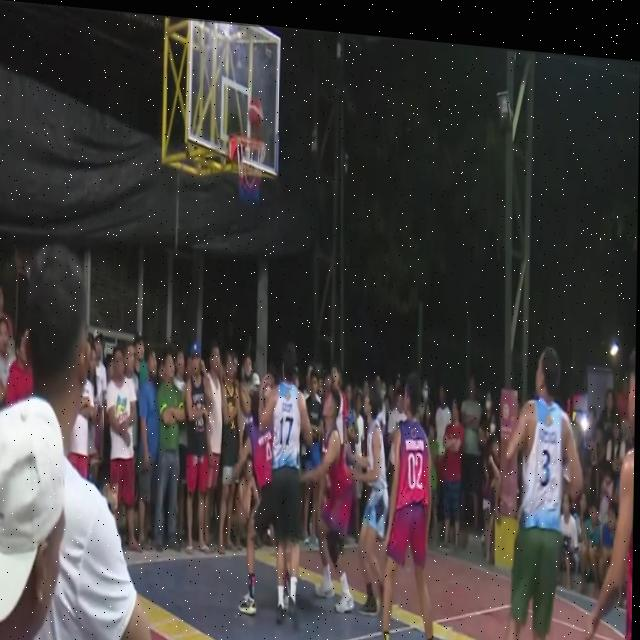basketball: (248, 97, 267, 135)
hoop: (222, 119, 270, 211)
